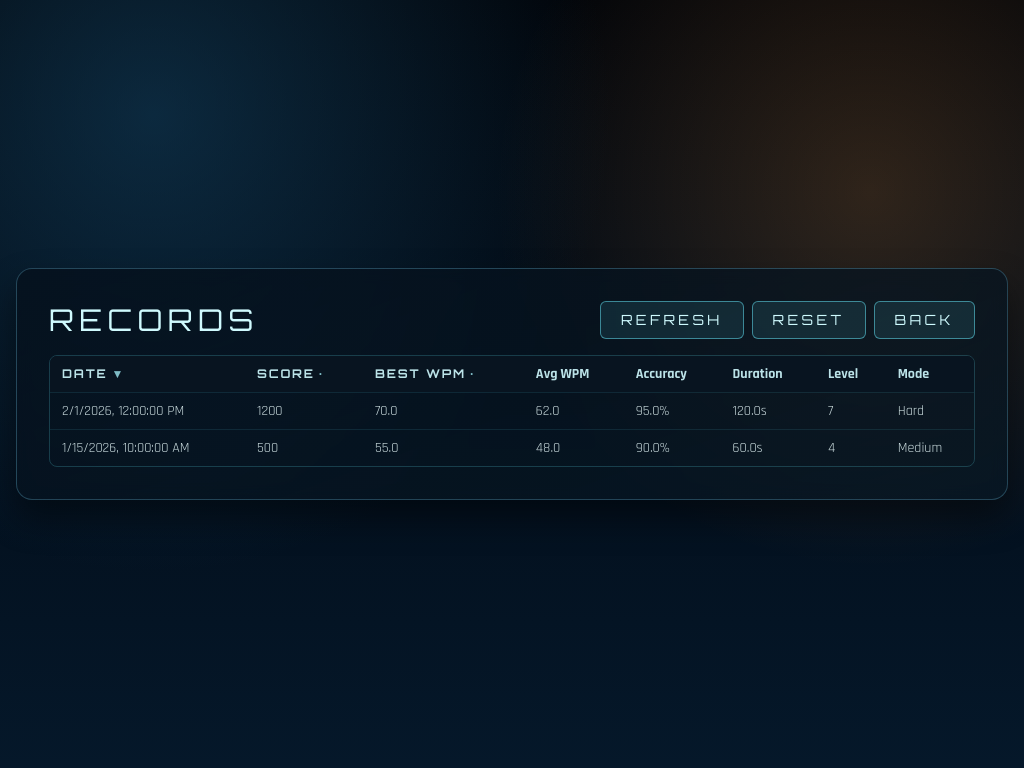
RecordsScreen › cancels reset when Cancel is clicked
Click the button "Reset" at (809, 320), box x1=752 y1=301 x2=866 y2=339
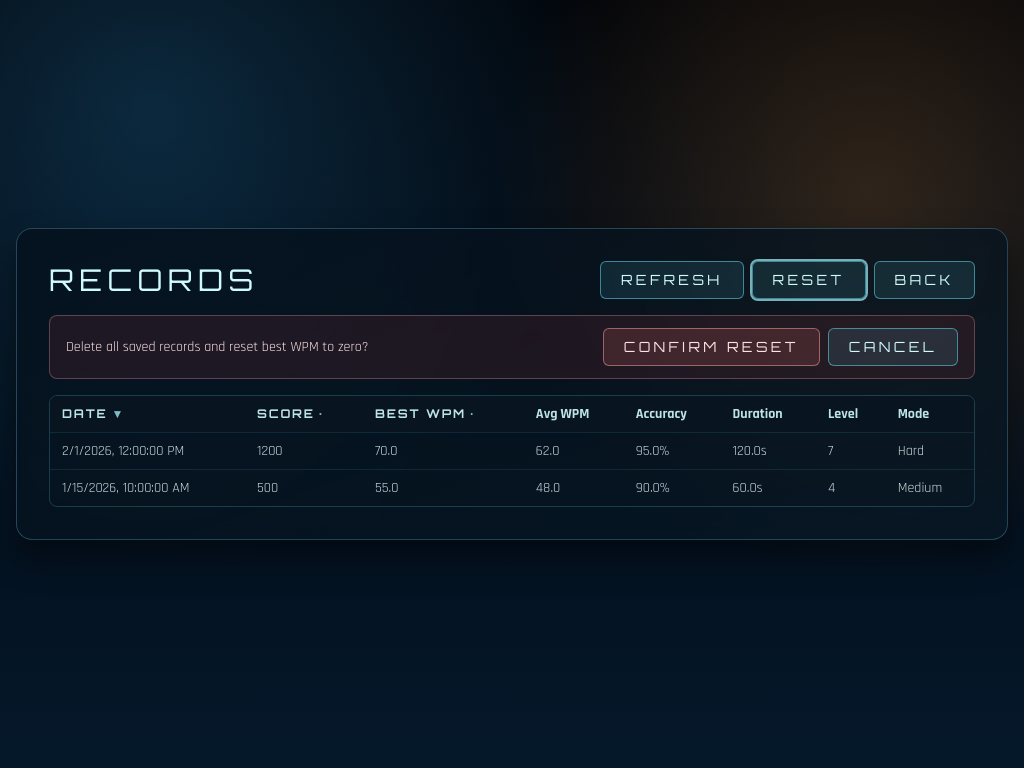
Click the button "Cancel" at (893, 347), box x1=828 y1=328 x2=958 y2=366
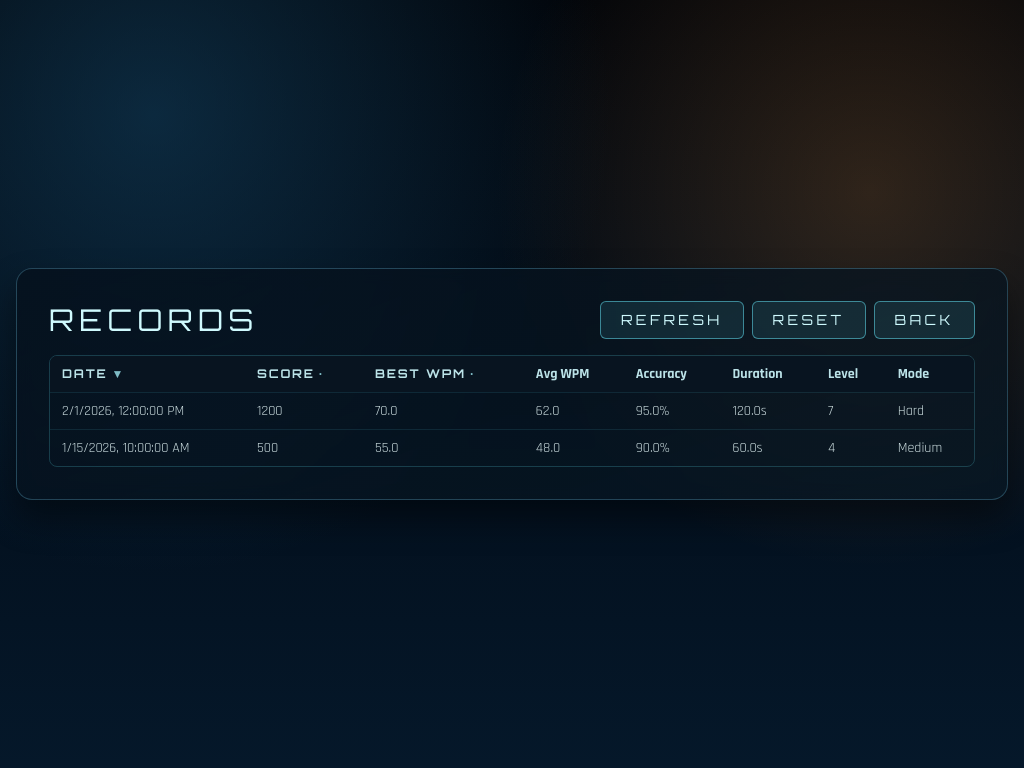
Expected: the text "Delete all saved records" is gone
